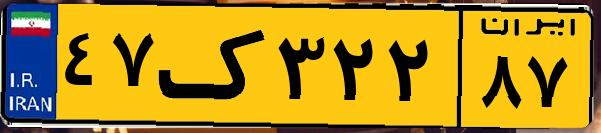2: (385, 28, 445, 110), (330, 28, 385, 110)
3: (270, 28, 330, 110)
4: (57, 26, 110, 100)
7: (525, 38, 570, 115), (110, 28, 158, 98)
8: (475, 38, 525, 113)
ک: (158, 12, 270, 120)
